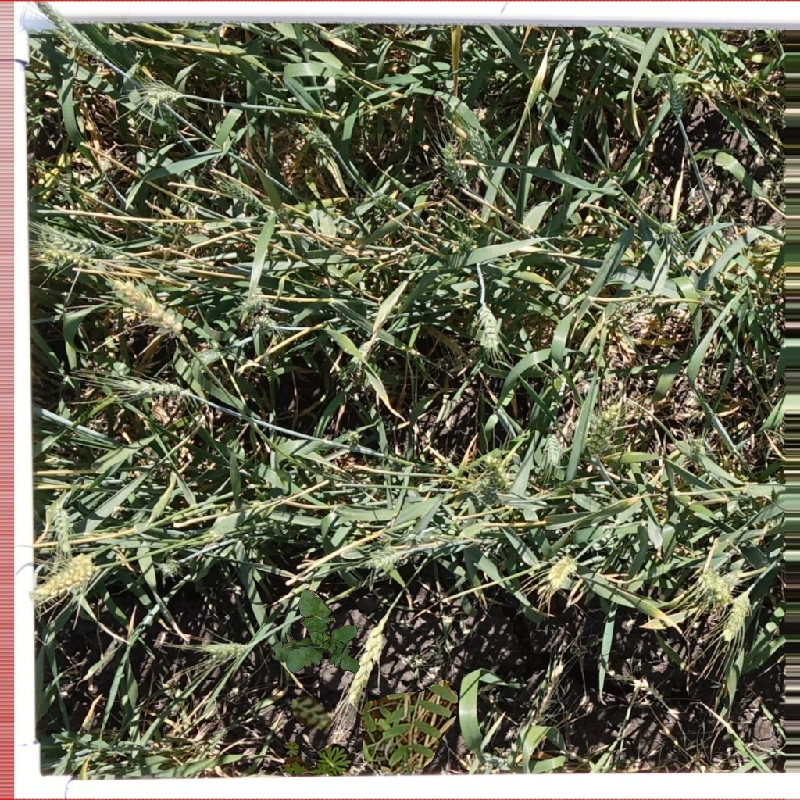spikelet: (107, 274, 186, 335), (32, 552, 98, 604), (35, 223, 104, 269), (348, 624, 384, 701), (50, 14, 106, 60), (583, 398, 625, 458), (215, 175, 265, 211), (114, 375, 187, 399), (720, 589, 753, 642), (471, 302, 503, 350), (44, 500, 75, 546), (543, 552, 580, 590), (439, 140, 469, 185), (696, 565, 732, 600), (203, 638, 251, 663), (365, 541, 404, 571), (296, 120, 334, 150), (237, 285, 275, 315), (141, 79, 181, 106), (247, 309, 285, 336), (541, 431, 567, 465), (666, 81, 690, 117)
weed: (264, 588, 377, 699), (361, 680, 459, 774), (260, 731, 352, 774), (292, 696, 331, 730)
